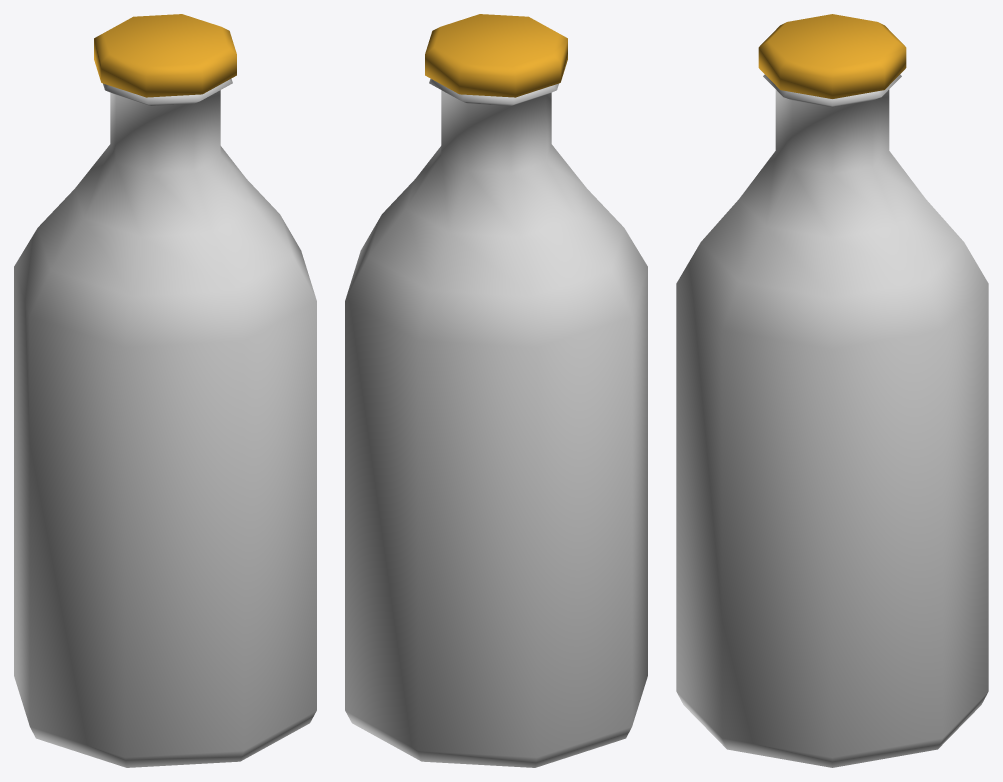
Rendered from bottle_juice_inside.fbx.
The picture shows the model from 3 angles, left to right: view 1: azimuth 30°, elevation 25°; view 2: azimuth 150°, elevation 25°; view 3: azimuth 270°, elevation 25°; orthographic projection.
Parts seen in each view (by area): view 1: Bottle, Cap; view 2: Bottle, Cap; view 3: Bottle, Cap.
Part boxes in pixels (box(x1,y1,x2,y2)): Bottle: box(14, 78, 316, 767); Cap: box(94, 14, 236, 97); Bottle: box(345, 78, 647, 767); Cap: box(425, 14, 567, 97); Bottle: box(676, 74, 988, 767); Cap: box(758, 14, 906, 98).
Bounding box in the file's own units: 41.89 × 98.32 × 41.89.
